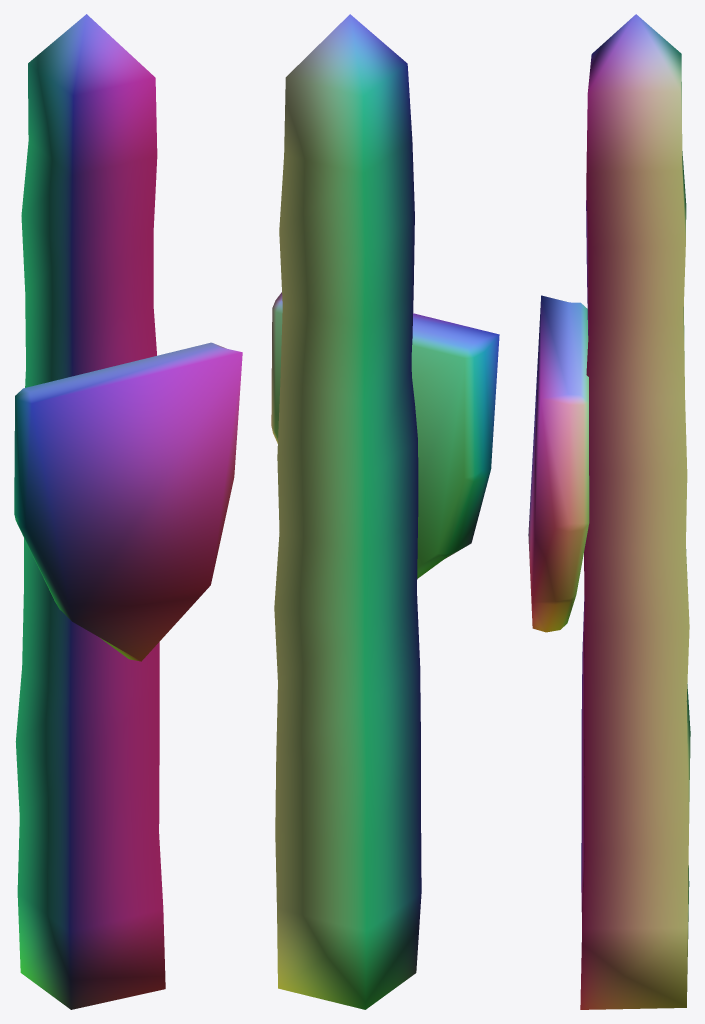
Rendered from SM_Palisade_March_Pew_B.fbx.
The picture shows the model from 3 angles, left to right: view 1: azimuth 30°, elevation 25°; view 2: azimuth 150°, elevation 25°; view 3: azimuth 270°, elevation 25°; orthographic projection.
Parts seen in each view (by area): view 1: SM_Palisade_March_Pew_B; view 2: SM_Palisade_March_Pew_B; view 3: SM_Palisade_March_Pew_B.
Boxes of the visible parts, x1,y1,x2,y2 form: SM_Palisade_March_Pew_B: (14,14,242,1009); SM_Palisade_March_Pew_B: (271,14,499,1009); SM_Palisade_March_Pew_B: (528,14,690,1009).
Size of the model in its own units: 0.3327 by 1.46 by 0.2209.
